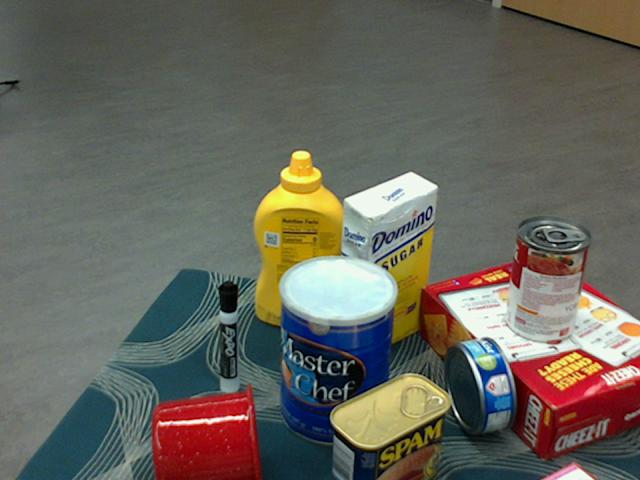cracker_box: (417, 256, 639, 456)
gelatin_box: (536, 462, 595, 479)
large_marker: (217, 280, 237, 393)
master_chef_can: (279, 256, 399, 448)
mug: (151, 384, 261, 479)
mustard_bottle: (253, 151, 347, 329)
potted_meat_can: (329, 373, 451, 479)
sugar_box: (335, 173, 439, 361)
tomato_soup_can: (505, 218, 590, 344)
tuna_fish_can: (445, 336, 517, 434)
